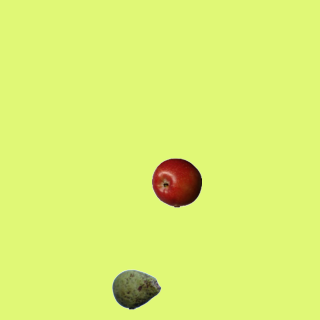Apple Braeburn: (151, 157, 201, 207)
Pear Stone: (111, 264, 161, 314)
